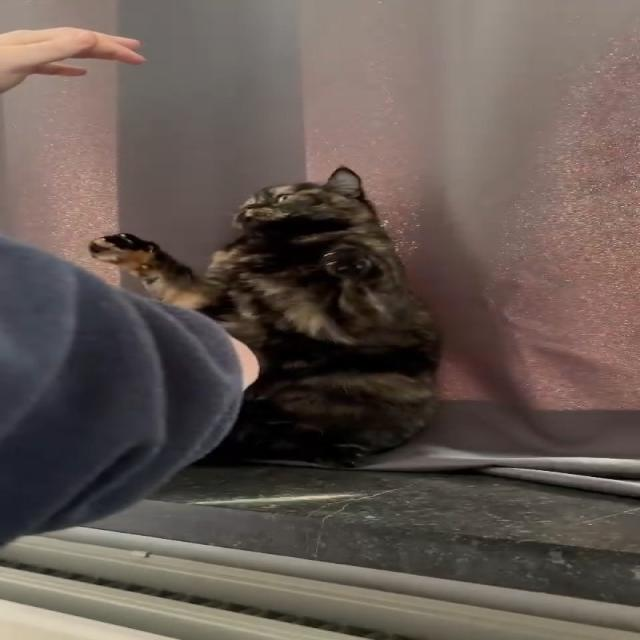authorized: (88, 164, 444, 468)
